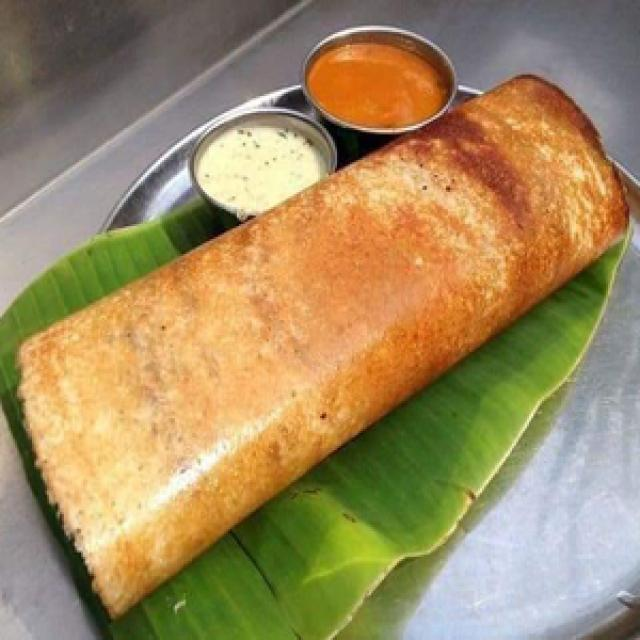dosa: (8, 60, 640, 637)
